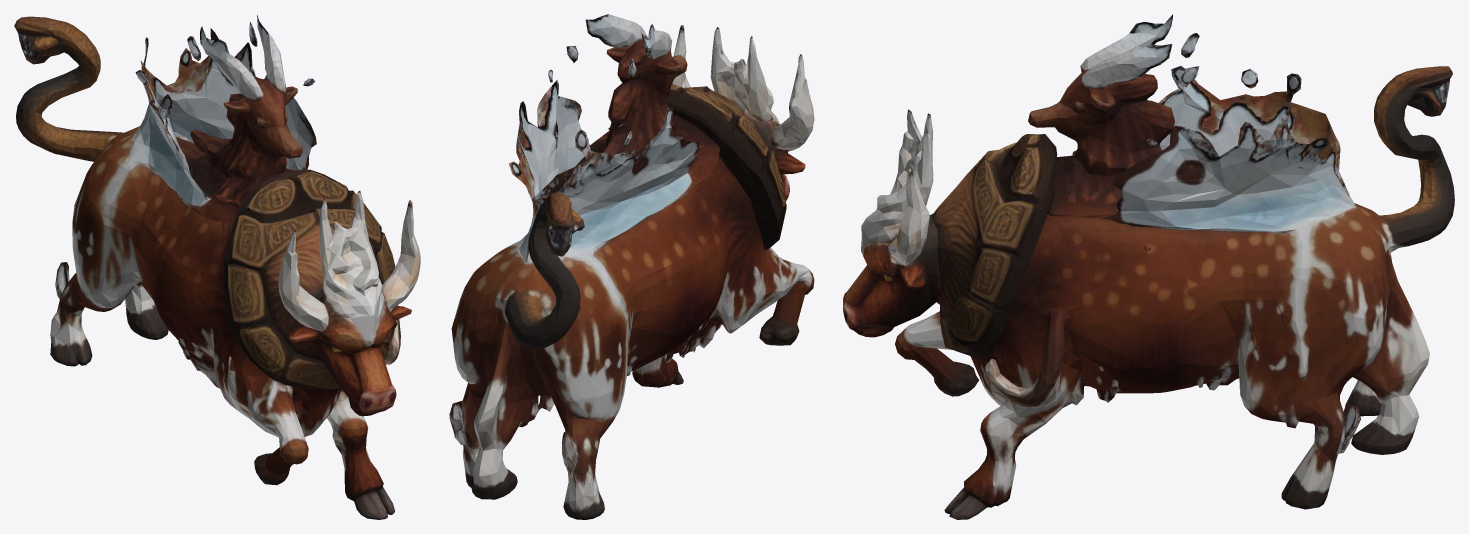
Rendered from horncinder__asterionEternal.glb.
The picture shows the model from 3 angles, left to right: view 1: azimuth 30°, elevation 25°; view 2: azimuth 150°, elevation 25°; view 3: azimuth 270°, elevation 25°; orthographic projection. The views are drawn at different scales.
Parts seen in each view (by area): view 1: world; view 2: world; view 3: world.
Part boxes in pixels (box(x1,y1,x2,y2)): world: box(14, 15, 420, 519); world: box(449, 14, 814, 519); world: box(843, 14, 1454, 519).
Bounding box in the file's own units: 0.3965 × 0.8266 × 0.9964.
Materials: 1 (1 with a texture image).
